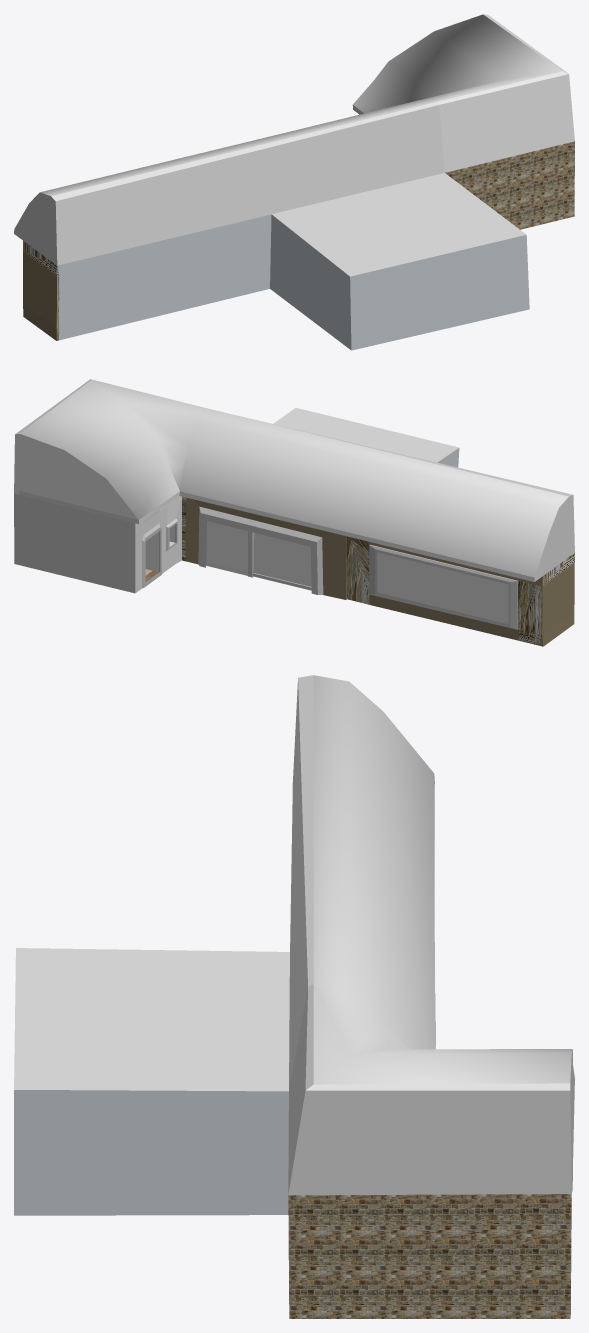
The model's file is House.fbx.
3 views of the same model, one above another, from view 1: azimuth 30°, elevation 25°; view 2: azimuth 150°, elevation 25°; view 3: azimuth 270°, elevation 25° (orthographic). The views are drawn at different scales.
Visible parts, largest first — view 1: House; view 2: House; view 3: House.
Part boxes in pixels (x1,y1,x2,y2): House: [14, 14, 574, 350]; House: [14, 379, 574, 646]; House: [14, 675, 574, 1318].
Bounding box in the file's own units: 3543 × 926 × 2033.
